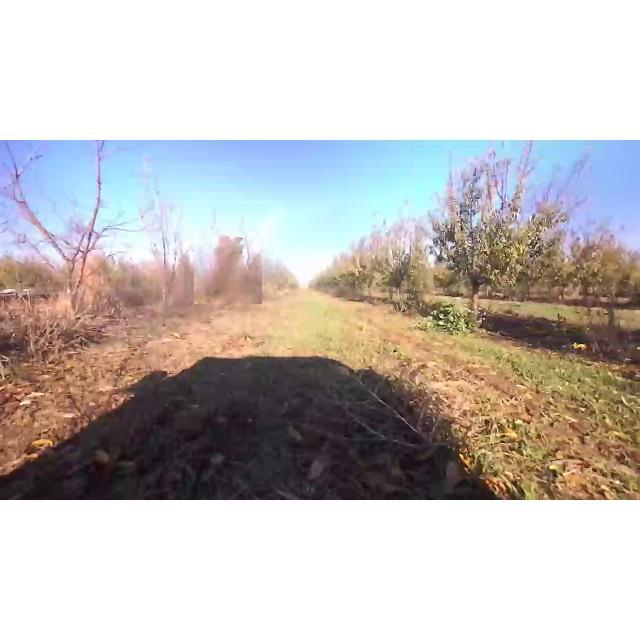direk: (412, 147, 604, 331), (0, 140, 156, 330), (366, 212, 432, 304), (194, 230, 262, 304)
